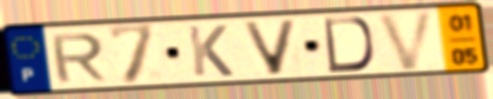7: (107, 22, 159, 88)
D: (321, 15, 377, 75)
K: (184, 23, 236, 78)
R: (47, 31, 109, 85)
V: (374, 8, 439, 73), (239, 18, 301, 77)
